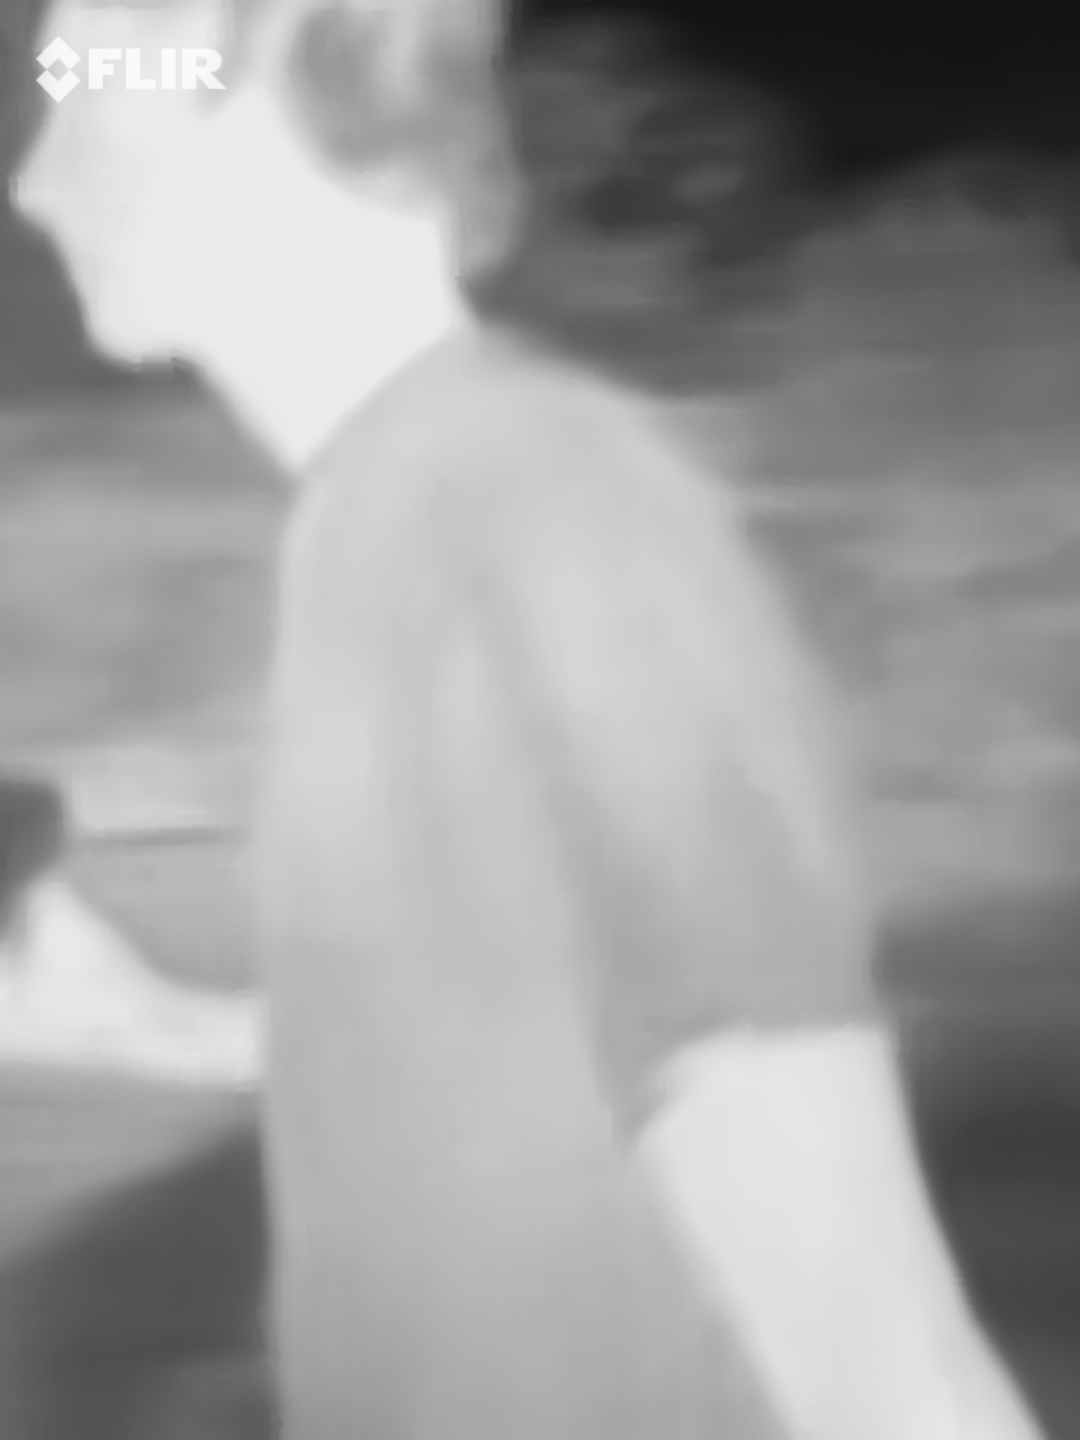head: (6, 1, 513, 380)
